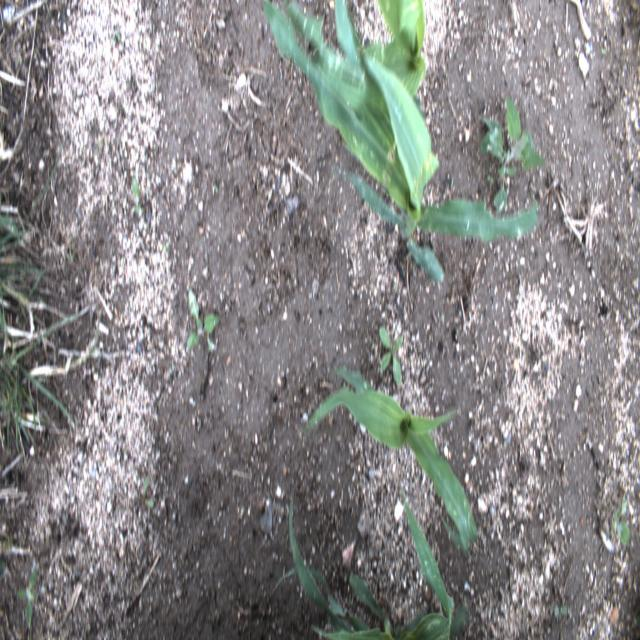crop: (258, 1, 542, 288), (304, 368, 480, 556), (274, 489, 467, 638), (376, 1, 426, 101)
weed: (1, 134, 94, 458), (480, 94, 548, 212), (180, 291, 220, 358), (376, 322, 406, 387), (608, 493, 636, 552), (20, 566, 39, 629), (1, 532, 14, 589), (140, 471, 157, 512), (130, 177, 142, 216), (550, 606, 573, 620), (112, 28, 121, 50), (481, 173, 496, 186)
